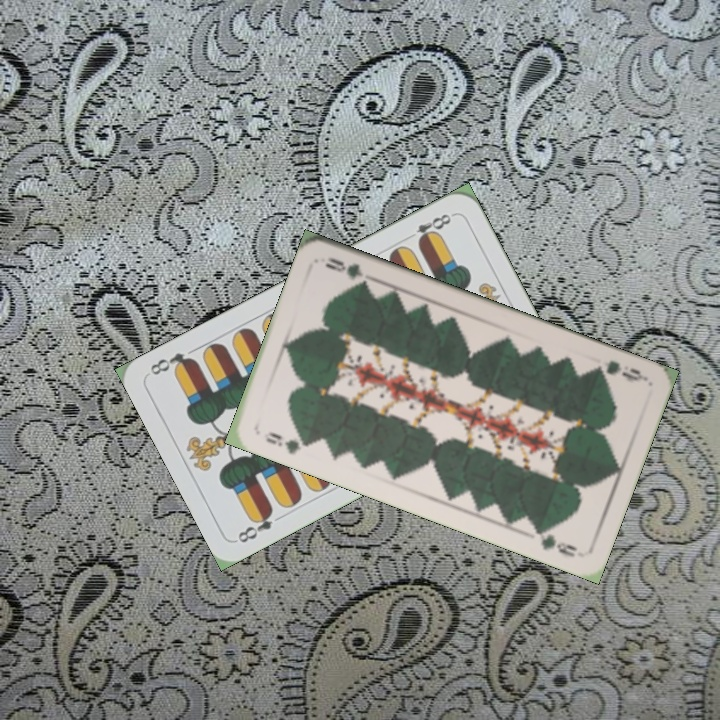E8: (401, 209, 457, 247), (233, 505, 276, 546)
G9: (588, 356, 649, 384), (262, 427, 314, 457)
